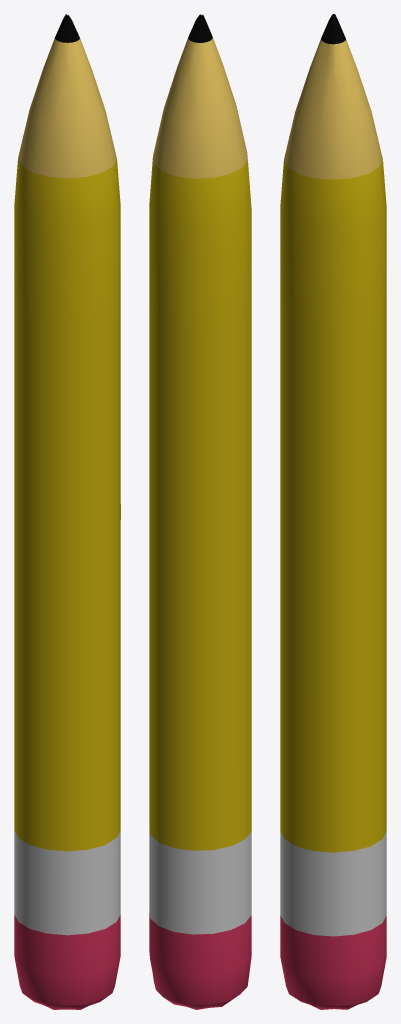
File: pencil.fbx
3 renders of one model, left to right at view 1: azimuth 90°, elevation 25°; view 2: azimuth 150°, elevation 25°; view 3: azimuth 270°, elevation 25°, orthographic.
Parts seen in each view (by area): view 1: Pencil; view 2: Pencil; view 3: Pencil.
Part boxes in pixels (box(x1,y1,x2,y2)): Pencil: box(14, 14, 120, 1009); Pencil: box(149, 14, 251, 1009); Pencil: box(280, 14, 386, 1009).
Bounding box in the file's own units: 1.11 × 11.76 × 1.16.
